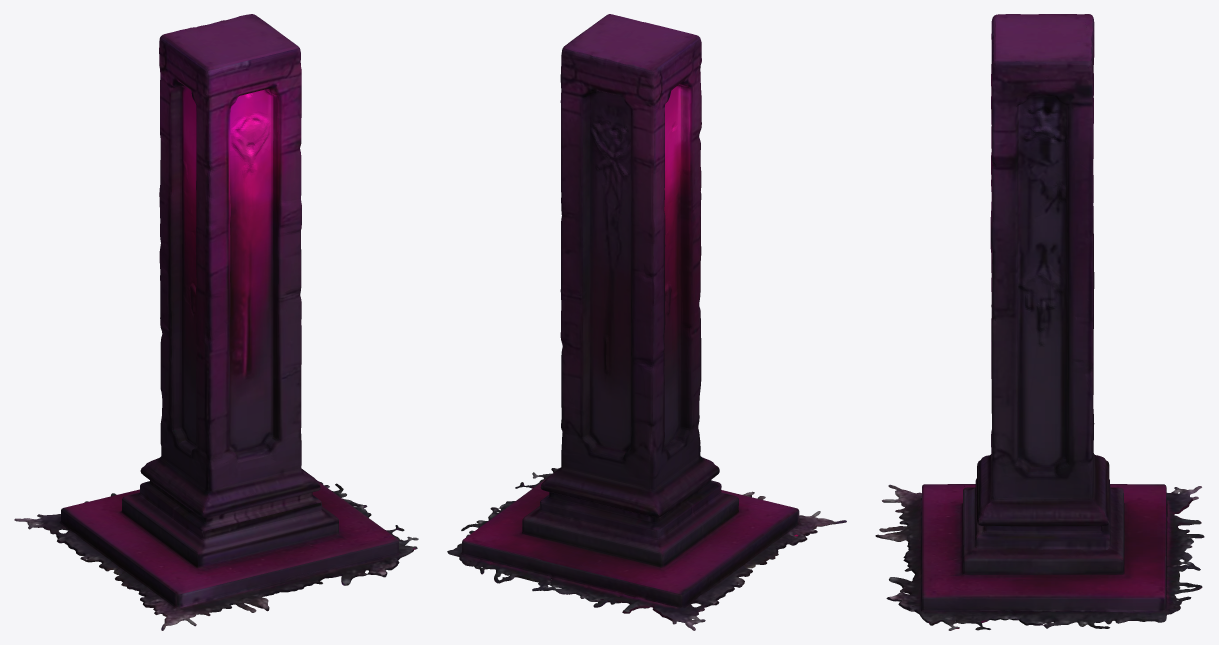
File: weathered-monolith-pillar-generated-2026-04-19T23-39-39-599Z.medium.glb
3 renders of one model, left to right at view 1: azimuth 30°, elevation 25°; view 2: azimuth 150°, elevation 25°; view 3: azimuth 270°, elevation 25°, orthographic. The views are drawn at different scales.
Visible parts, largest first — view 1: temp_mesh.ply; view 2: temp_mesh.ply; view 3: temp_mesh.ply.
Boxes of the visible parts, x1,y1,x2,y2 form: temp_mesh.ply: (14, 14, 418, 630); temp_mesh.ply: (447, 14, 846, 630); temp_mesh.ply: (875, 14, 1204, 630).
Bounding box in the file's own units: 1.18 × 1.97 × 1.13.
1 material, 1 textured.
